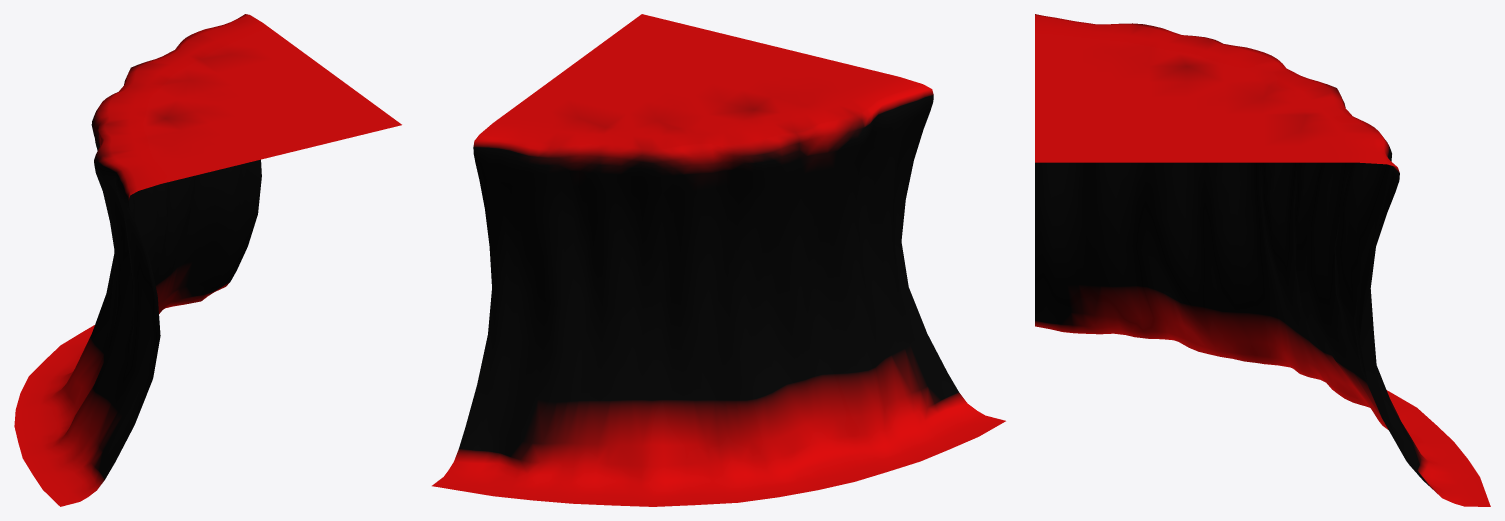
The model's file is GroundCliff03C 2M Foreground.fbx.
3 renders of one model, left to right at view 1: azimuth 30°, elevation 25°; view 2: azimuth 150°, elevation 25°; view 3: azimuth 270°, elevation 25°, orthographic. The views are drawn at different scales.
Parts seen in each view (by area): view 1: GroundCliff03C 2M Foreground; view 2: GroundCliff03C 2M Foreground; view 3: GroundCliff03C 2M Foreground.
Boxes of the visible parts, x1,y1,x2,y2 form: GroundCliff03C 2M Foreground: (14, 14, 401, 506); GroundCliff03C 2M Foreground: (432, 14, 1005, 506); GroundCliff03C 2M Foreground: (1035, 14, 1490, 506).
Bounding box in the file's own units: 2.4 × 2 × 2.4.
